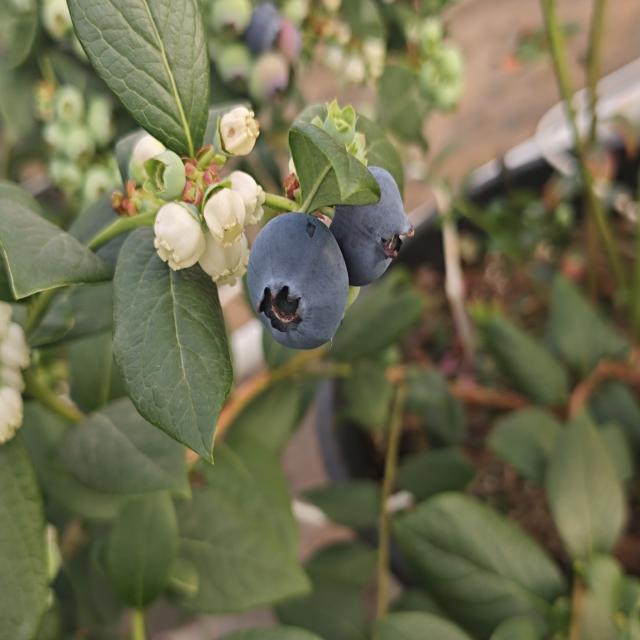ripe: (225, 214, 363, 353), (335, 166, 414, 275), (239, 0, 285, 59)
